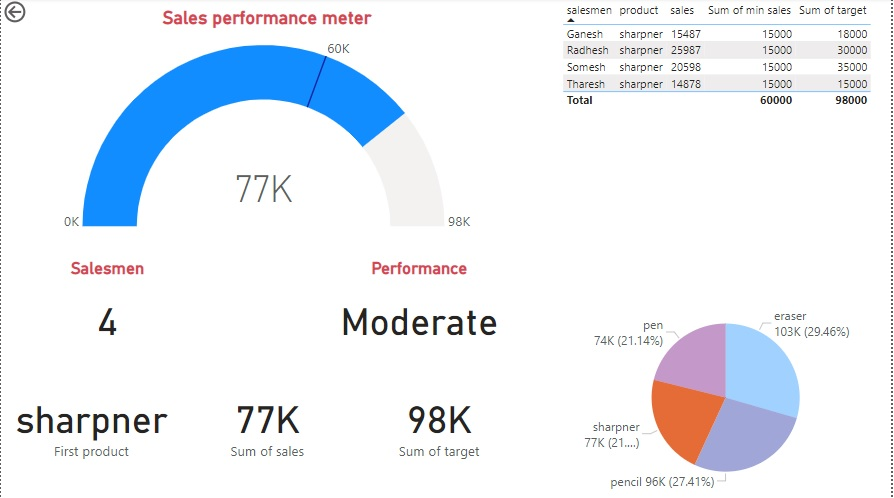

What the dashboard file says about the page in this screenshot:
{"tool":"powerbi","page":{"name":"Page 3","canvas":[1280,720],"ordinal":1},"visuals":[{"type":"gauge","title":"Sales performance meter","fields":{"Y":["Table.sales"],"MaxValue":["Table.target"],"TargetValue":["Table.min sales"]},"box":[35.9,12.9,692.7,324.8],"z":0},{"type":"pieChart","fields":{"Y":["Table.sales"],"Category":["Table.product"]},"box":[801.9,428.3,478.6,291.7],"z":1000},{"type":"tableEx","fields":{"Values":["Table.salesmen","Table.product","Table.sales","Table.min sales","Table.target"]},"box":[801.9,0,478.6,428.3],"z":2000},{"type":"card","title":"Salesmen","fields":{"Values":["Table.salesmen"]},"box":[25.9,375.1,254.4,138],"z":2001},{"type":"card","title":"Performance","fields":{"Values":["Table.Custom"]},"box":[474.3,375.1,254.4,138],"z":2002},{"type":"actionButton","box":[0,0,100,40],"z":2004},{"type":"card","fields":{"Values":["Table.product"]},"box":[2.4,536,254.4,150.9],"z":2005},{"type":"card","fields":{"Values":["Table.target"]},"box":[511.2,536,235.7,150.9],"z":2006},{"type":"card","fields":{"Values":["Table.sales"]},"box":[256.8,537.5,251.5,149.5],"z":2007}]}

Visuals, with their boxes in screenshot pixels (x1, y1, x2, y2), scaled from the page's 1280x720 canvas onto the 894x498 screenshot:
"Sales performance meter" gauge: 25, 9, 509, 234
pieChart - Table.sales x Table.product: 560, 296, 893, 497
tableEx - Table.salesmen x Table.product: 560, 0, 893, 296
"Salesmen" card: 18, 259, 196, 355
"Performance" card: 331, 259, 509, 355
actionButton: 0, 0, 70, 28
card - Table.product: 2, 371, 179, 475
card - Table.target: 357, 371, 522, 475
card - Table.sales: 179, 372, 355, 475
